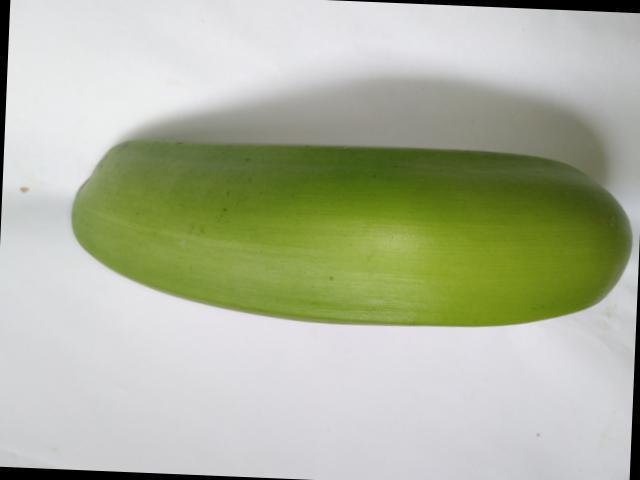freshunripe: (49, 122, 635, 337)
